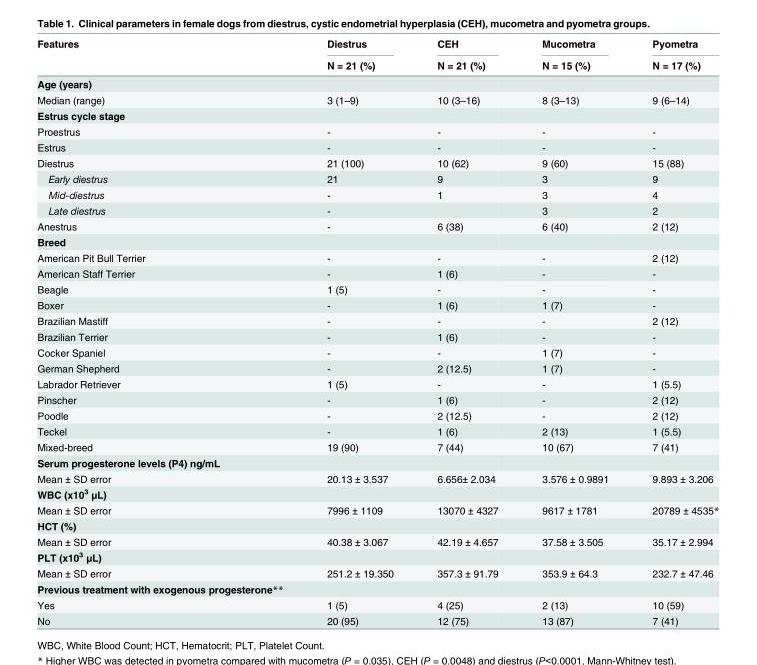table: (36, 37, 718, 626)
table column: (36, 37, 304, 626), (304, 37, 414, 626), (519, 37, 629, 626), (414, 37, 519, 626), (629, 37, 718, 626)
table column header: (36, 37, 718, 74)
table projected row header: (36, 74, 718, 91), (36, 548, 718, 565), (36, 107, 718, 123), (36, 233, 718, 249), (36, 454, 718, 470), (36, 485, 718, 501), (36, 517, 718, 533), (36, 580, 718, 596)
table row: (36, 53, 718, 74), (36, 74, 718, 91), (36, 548, 718, 565), (36, 37, 718, 53), (36, 91, 718, 107), (36, 107, 718, 123), (36, 123, 718, 139), (36, 154, 718, 170), (36, 170, 718, 186), (36, 186, 718, 202), (36, 202, 718, 218), (36, 233, 718, 249), (36, 249, 718, 265), (36, 265, 718, 281), (36, 296, 718, 312), (36, 312, 718, 328), (36, 328, 718, 344), (36, 359, 718, 375), (36, 375, 718, 391), (36, 391, 718, 407), (36, 407, 718, 423), (36, 438, 718, 454), (36, 454, 718, 470), (36, 485, 718, 501), (36, 501, 718, 517), (36, 517, 718, 533), (36, 580, 718, 596), (36, 596, 718, 612), (36, 139, 718, 154), (36, 218, 718, 233), (36, 281, 718, 296), (36, 344, 718, 359), (36, 423, 718, 438), (36, 470, 718, 485), (36, 533, 718, 548), (36, 565, 718, 580), (36, 612, 718, 626)
table spanning cell: (36, 37, 304, 74), (304, 37, 414, 74), (519, 37, 629, 74), (414, 37, 519, 74), (629, 37, 718, 74)
